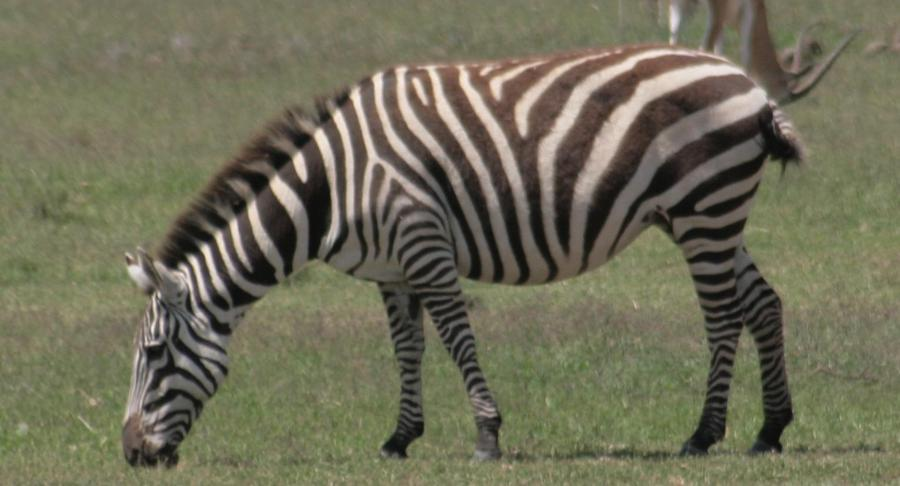zebra_plains: (297, 16, 800, 291)
